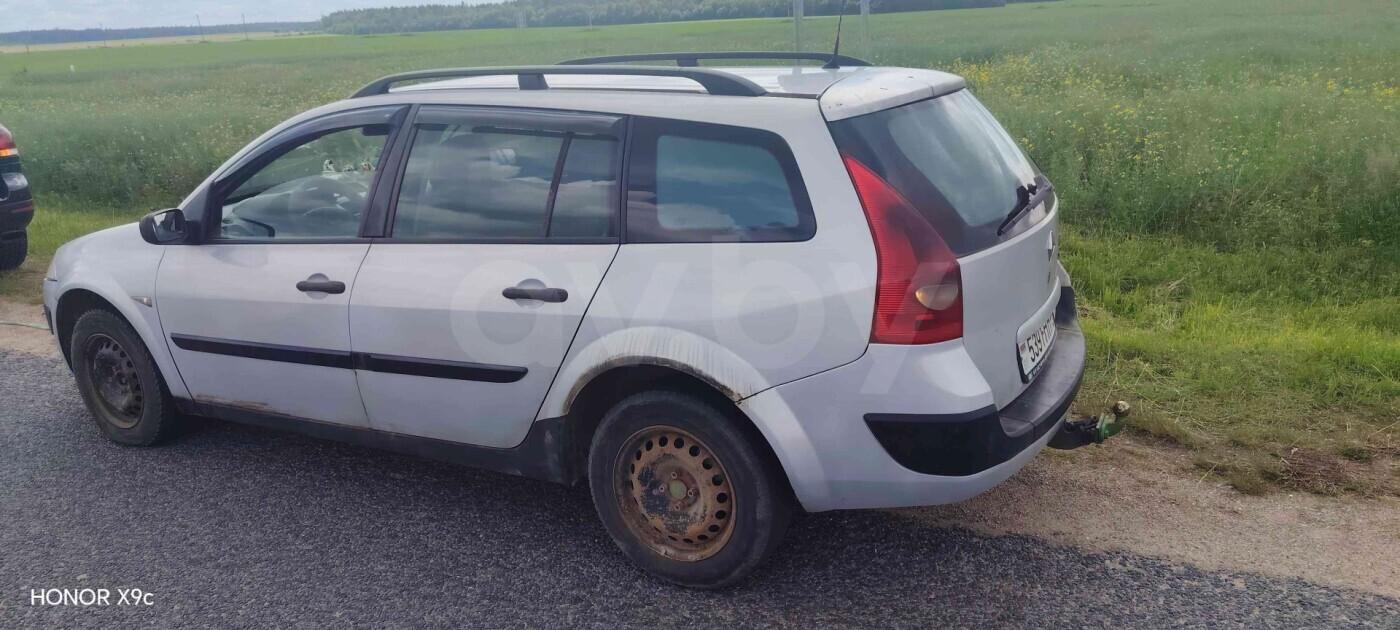Megane_2002-2006: (32, 60, 1092, 573)
